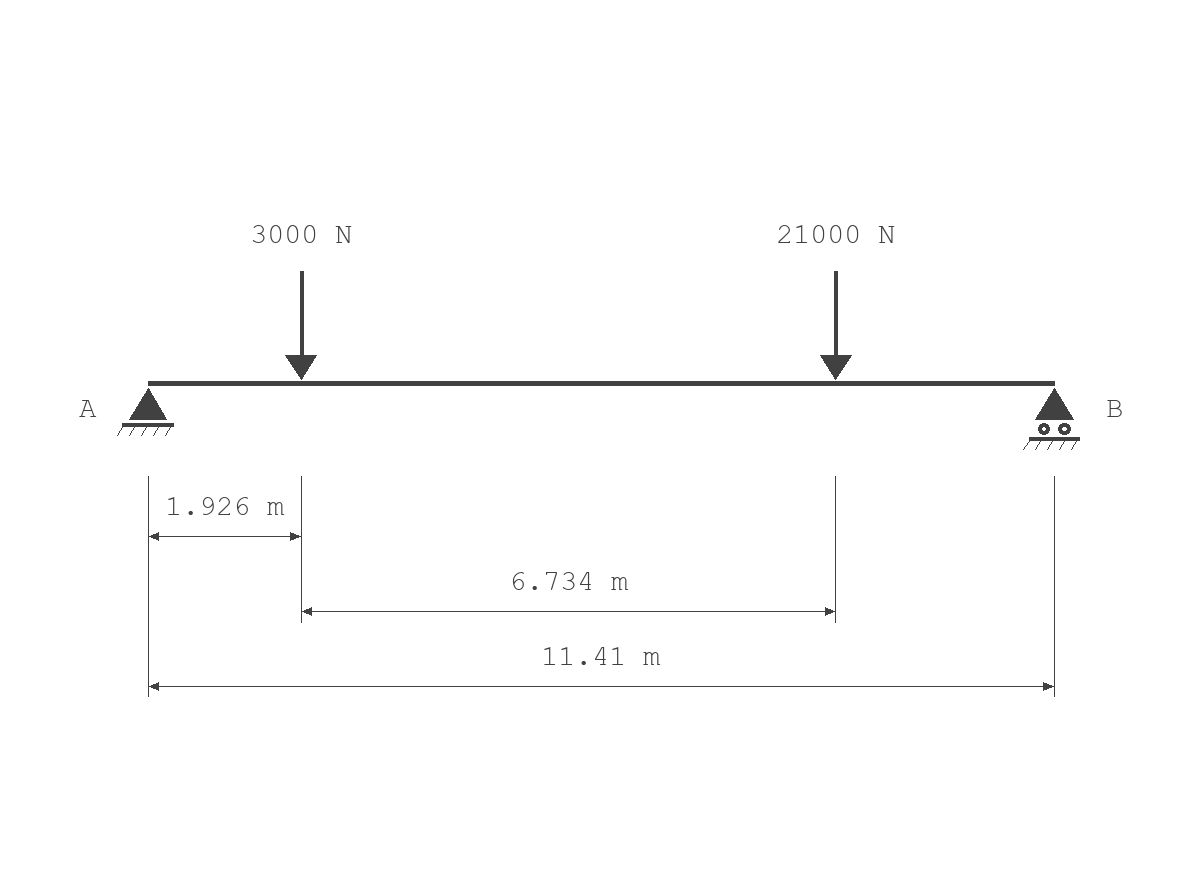pin_support: (117, 388, 174, 436)
point_load: (285, 271, 317, 380), (820, 271, 852, 380)
roller_support: (1023, 388, 1080, 450)
